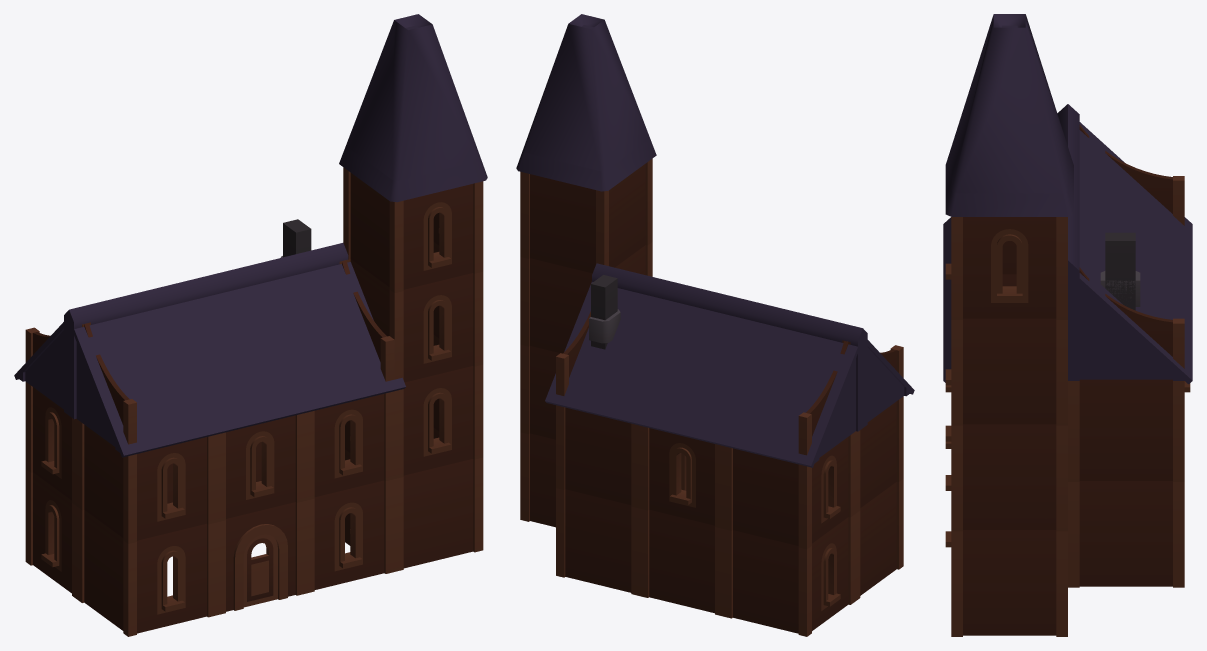
Rendered from cabane-reine.glb.
The picture shows the model from 3 angles, left to right: view 1: azimuth 30°, elevation 25°; view 2: azimuth 150°, elevation 25°; view 3: azimuth 270°, elevation 25°; orthographic projection. The views are drawn at different scales.
Visible parts, largest first — view 1: wall-wood-window-round, roof-high; view 2: wall-wood-window-round, roof-high; view 3: wall-wood-window-round, roof-high.
Boxes of the visible parts, left/top/right/bottom form: wall-wood-window-round: left=25, top=167, right=483, bottom=636; roof-high: left=14, top=14, right=487, bottom=457; wall-wood-window-round: left=520, top=158, right=903, bottom=636; roof-high: left=516, top=14, right=914, bottom=467; wall-wood-window-round: left=945, top=124, right=1190, bottom=636; roof-high: left=943, top=14, right=1192, bottom=384.
Size of the model in its own units: 12.42 by 16.8 by 6.42.
Materials: 2 (1 with a texture image).
